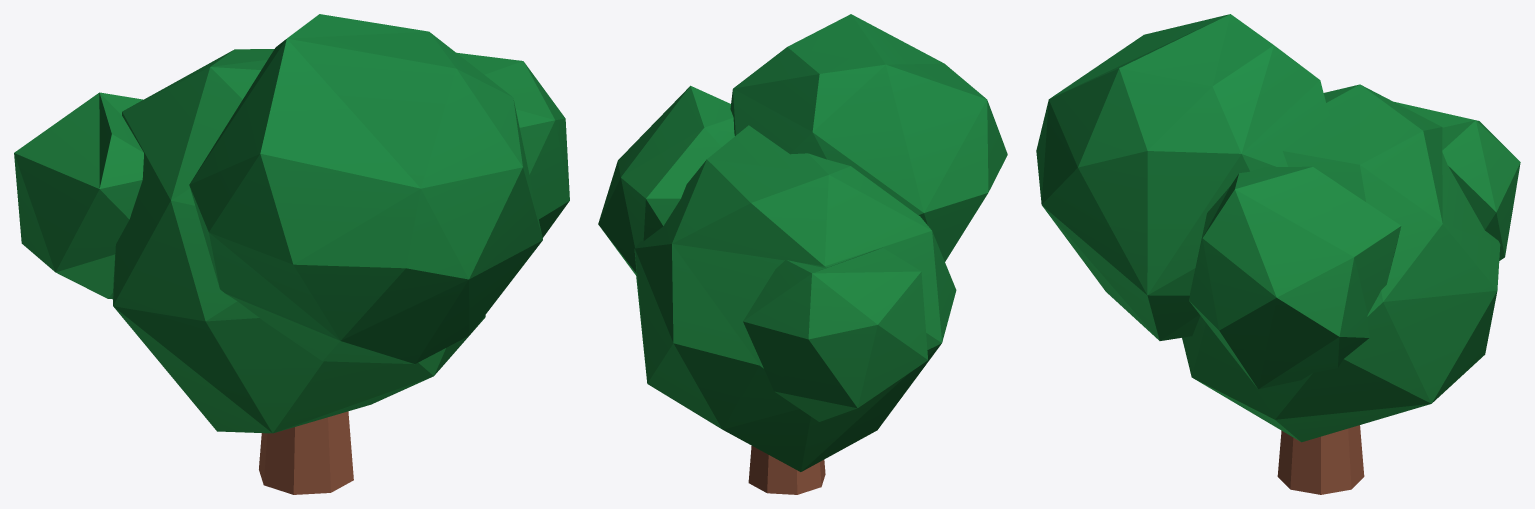
Rendered from Bush_5_gradient_green.fbx.
The picture shows the model from 3 angles, left to right: view 1: azimuth 30°, elevation 25°; view 2: azimuth 150°, elevation 25°; view 3: azimuth 270°, elevation 25°; orthographic projection. The views are drawn at different scales.
Parts seen in each view (by area): view 1: Bush_5_gradient_green; view 2: Bush_5_gradient_green; view 3: Bush_5_gradient_green.
Boxes of the visible parts, x1,y1,x2,y2 form: Bush_5_gradient_green: [14, 14, 569, 494]; Bush_5_gradient_green: [598, 14, 1007, 494]; Bush_5_gradient_green: [1036, 14, 1520, 494].
Size of the model in its own units: 31.34 by 32.92 by 33.43.
